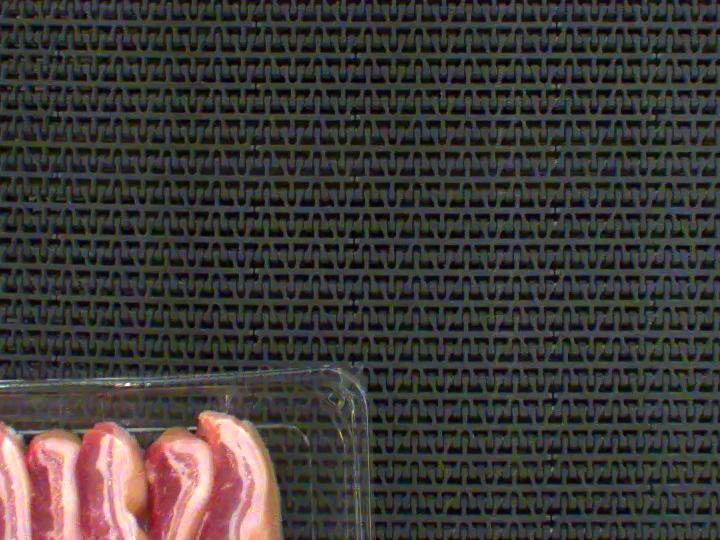packaging-error: (199, 384, 244, 413)
